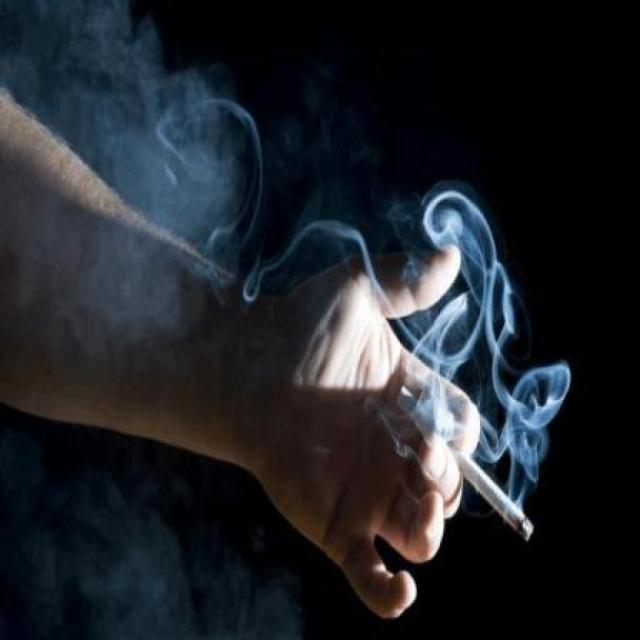rokok: (388, 378, 540, 544)
